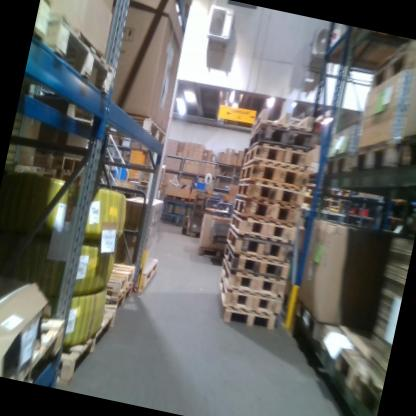pallet: (309, 316, 394, 416), (36, 2, 126, 96), (46, 290, 121, 389), (0, 299, 68, 385), (62, 97, 170, 150), (348, 122, 411, 191), (367, 33, 416, 101), (243, 138, 311, 177), (239, 154, 307, 193), (247, 119, 313, 159), (231, 192, 301, 229), (235, 173, 305, 209), (216, 264, 286, 300), (216, 283, 285, 319), (219, 248, 290, 281), (221, 233, 290, 265), (227, 216, 295, 247), (288, 293, 327, 344), (92, 255, 137, 298), (317, 141, 354, 189), (34, 145, 85, 179), (89, 275, 134, 312), (220, 309, 277, 336), (31, 0, 57, 45), (395, 118, 416, 168), (136, 256, 159, 296), (195, 245, 222, 260)
pallet_truck: (176, 180, 201, 236)
